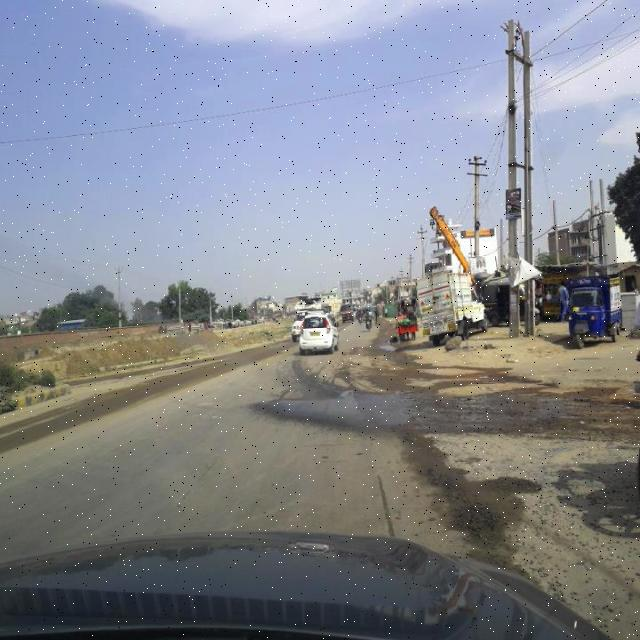D00: (373, 468, 399, 534)
